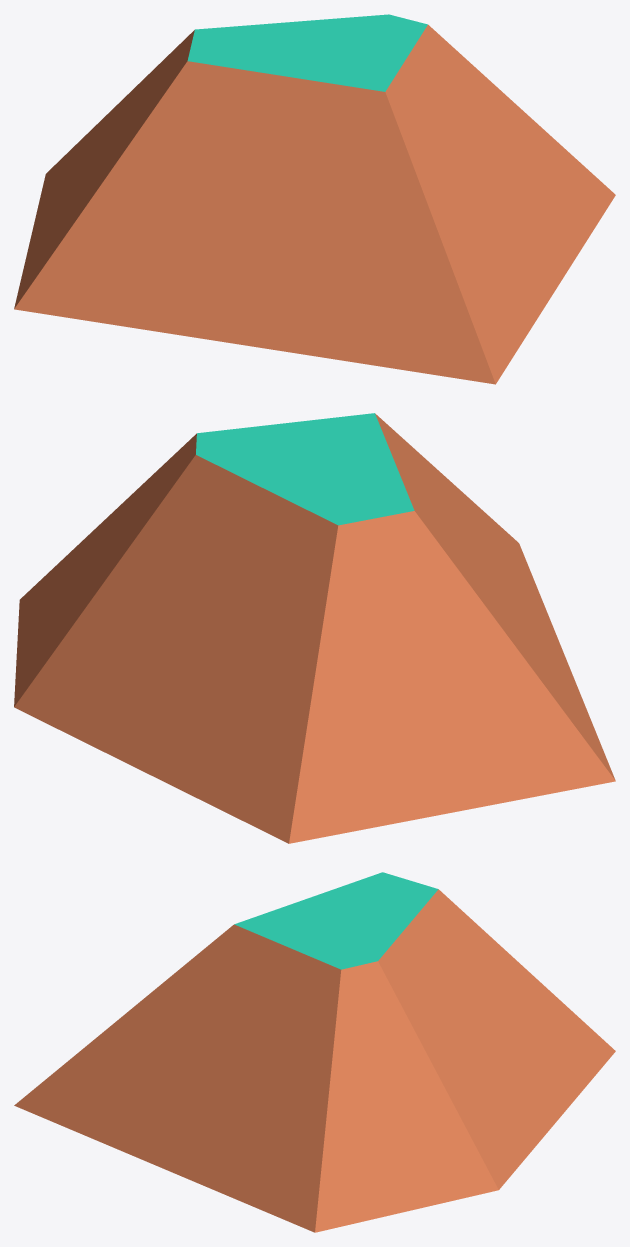
The model's file is rock_smallC.fbx.
3 views of the same model, one above another, from view 1: azimuth 30°, elevation 25°; view 2: azimuth 150°, elevation 25°; view 3: azimuth 270°, elevation 25° (orthographic). The views are drawn at different scales.
Parts seen in each view (by area): view 1: rock_smallC; view 2: rock_smallC; view 3: rock_smallC.
Boxes of the visible parts, x1,y1,x2,y2 form: rock_smallC: (14,14,615,384); rock_smallC: (14,413,615,843); rock_smallC: (14,872,615,1232).
Size of the model in its own units: 3.61 by 1.23 by 3.61.
